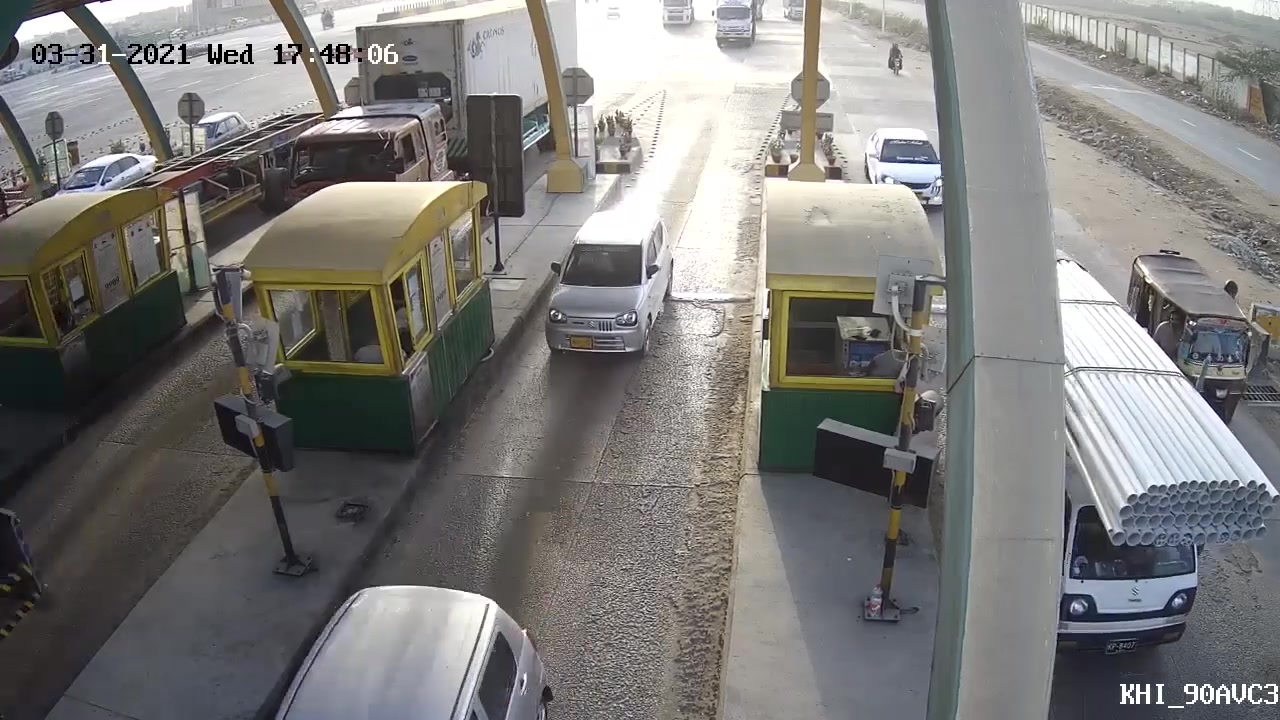F1: (525, 203, 684, 379)
